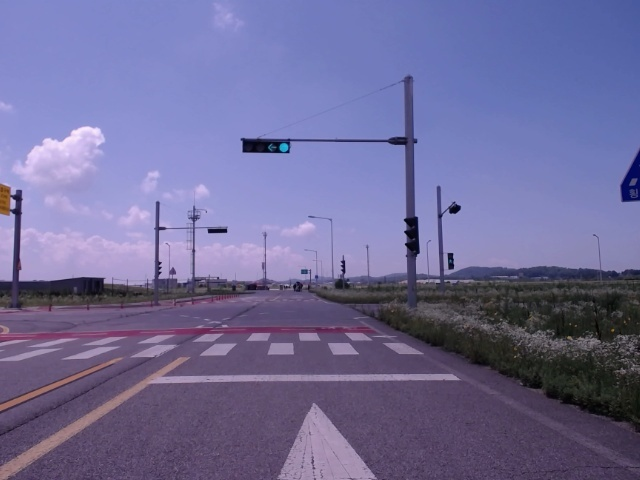all_green_4: (245, 139, 292, 153)
